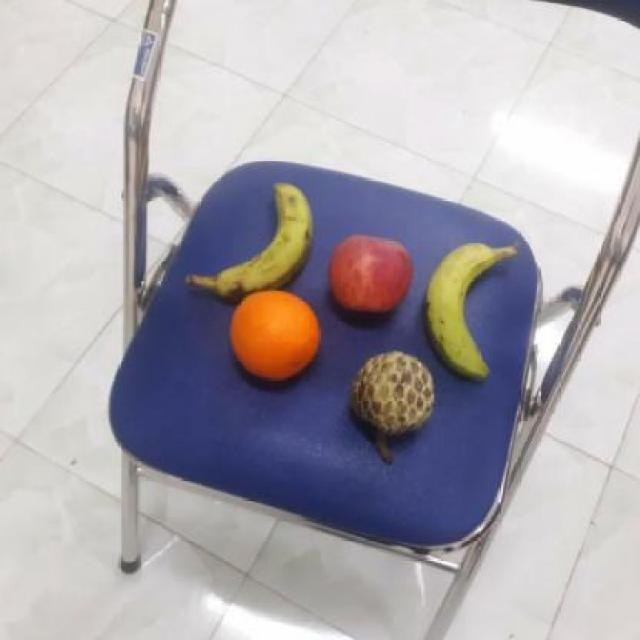apple: (322, 233, 410, 319)
banana: (196, 180, 318, 298), (420, 240, 520, 378)
oren: (224, 288, 318, 386)
sugar apple: (348, 351, 439, 438)
